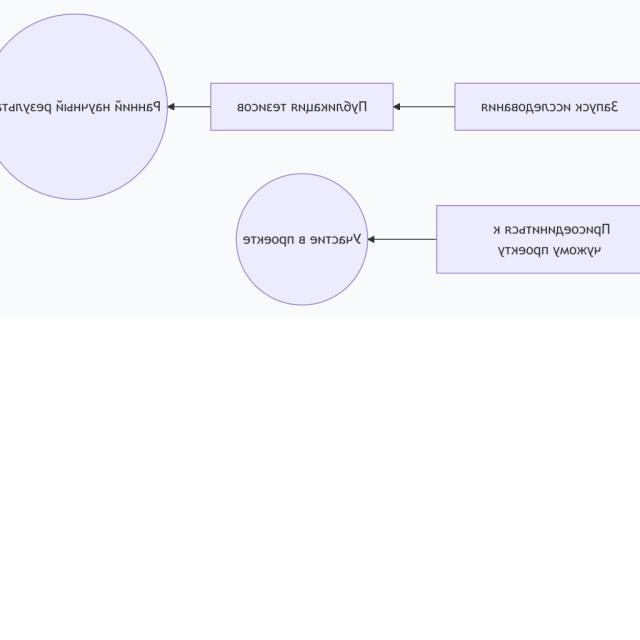circle: (235, 172, 369, 306)
rectangle: (210, 80, 394, 132), (410, 101, 456, 113)
